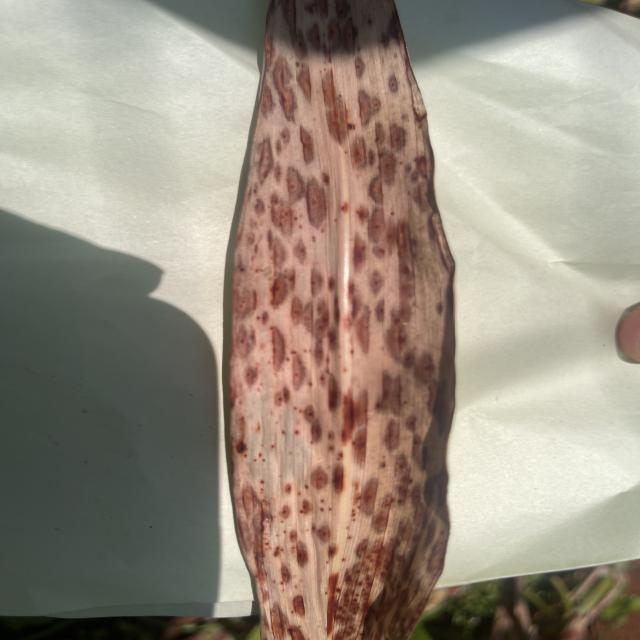millet_rust: (229, 0, 455, 640)
